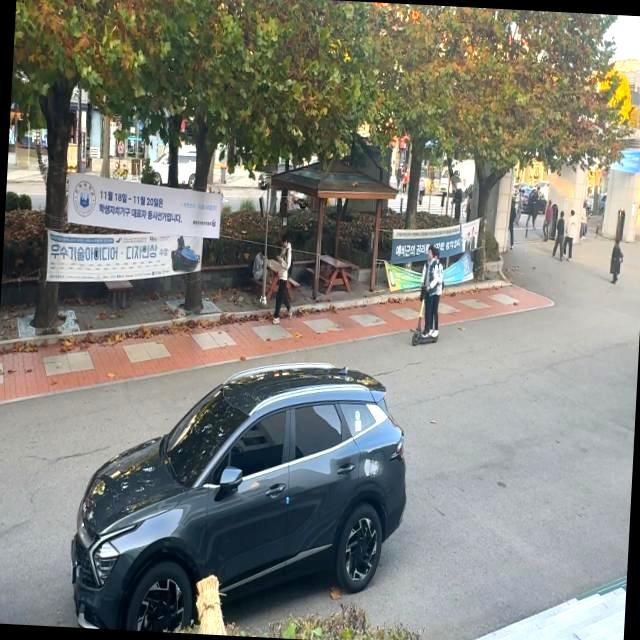bare_head: (420, 244, 435, 262), (430, 244, 444, 263)
human: (417, 245, 436, 336), (429, 246, 444, 340)
kickboard: (406, 327, 448, 348)
